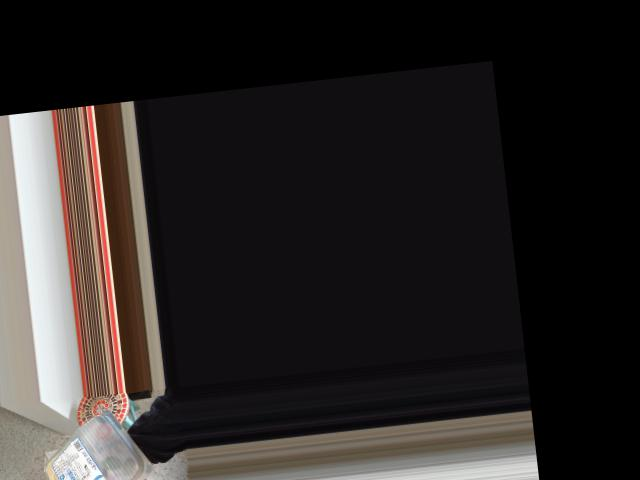cheese: (28, 405, 144, 480)
